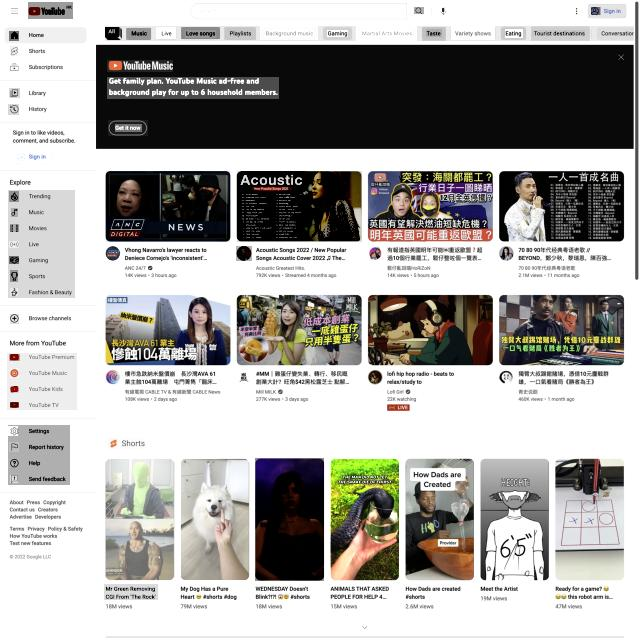CheckBox: (108, 120, 148, 136), (12, 149, 52, 165), (588, 4, 626, 18), (407, 3, 431, 19), (435, 3, 452, 19)
CheckedTextView: (190, 2, 432, 20)
ImageView: (95, 44, 633, 149)
Input field: (107, 77, 279, 99), (104, 584, 158, 600)
accordion: (105, 424, 625, 430)
breadcrumbs: (120, 438, 146, 449)
carousel: (9, 62, 20, 73), (8, 104, 19, 115), (9, 88, 20, 98), (9, 191, 19, 202), (108, 438, 118, 449), (9, 31, 19, 41), (8, 426, 18, 436), (9, 442, 19, 452), (10, 270, 18, 282), (17, 152, 26, 162), (10, 314, 19, 324), (10, 368, 19, 378), (9, 459, 19, 468), (10, 46, 18, 56), (9, 256, 19, 264), (592, 7, 602, 15), (9, 354, 20, 361), (10, 224, 19, 232), (439, 7, 447, 16), (617, 53, 625, 62), (9, 241, 19, 248), (414, 7, 424, 14), (10, 288, 18, 296), (10, 475, 18, 483), (11, 208, 18, 217), (10, 386, 19, 393), (360, 623, 368, 630), (10, 402, 19, 408), (147, 265, 154, 271)
copy: (237, 171, 362, 242), (106, 171, 230, 242), (180, 458, 249, 582), (330, 458, 400, 580), (255, 458, 324, 581), (106, 458, 174, 581), (236, 246, 252, 261), (105, 246, 120, 261)
data feed: (360, 29, 412, 37), (265, 29, 314, 37), (534, 30, 587, 36), (454, 30, 492, 38), (185, 30, 216, 38), (115, 124, 142, 132), (228, 29, 252, 37), (505, 29, 523, 38), (327, 30, 348, 37), (131, 30, 148, 38), (426, 29, 442, 37), (160, 30, 172, 37), (110, 31, 118, 36)
date picker: (107, 60, 173, 72), (28, 2, 73, 19)
decoration: (105, 26, 634, 41), (8, 190, 75, 298), (7, 353, 77, 410), (8, 425, 70, 485), (10, 7, 20, 17)
footer: (196, 7, 218, 15)
illustration: (356, 26, 417, 42), (532, 26, 592, 41), (260, 26, 318, 40), (451, 26, 495, 40), (181, 27, 220, 39), (224, 27, 256, 40), (323, 27, 352, 40), (422, 27, 446, 41), (501, 27, 526, 40), (126, 28, 151, 40), (156, 27, 176, 39), (105, 28, 122, 40)
